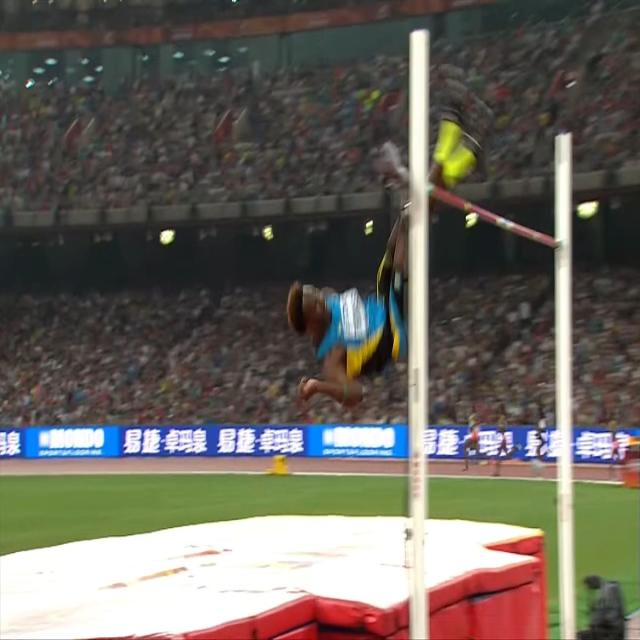land: (286, 81, 492, 404)
